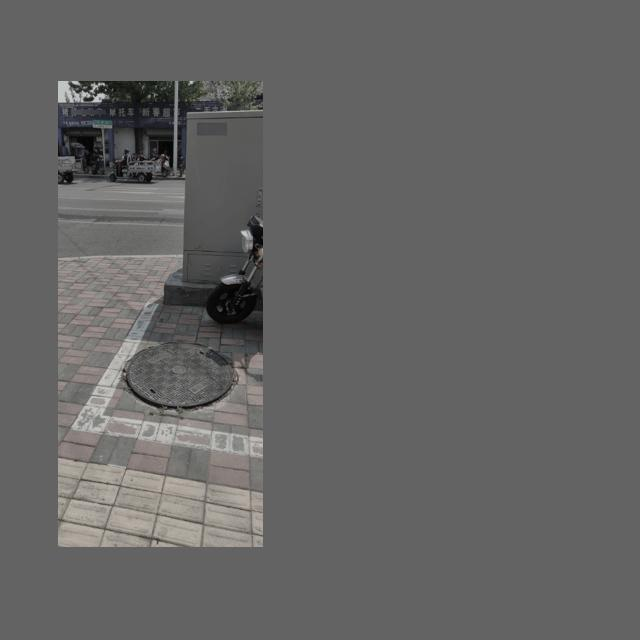good: (125, 341, 233, 406)
